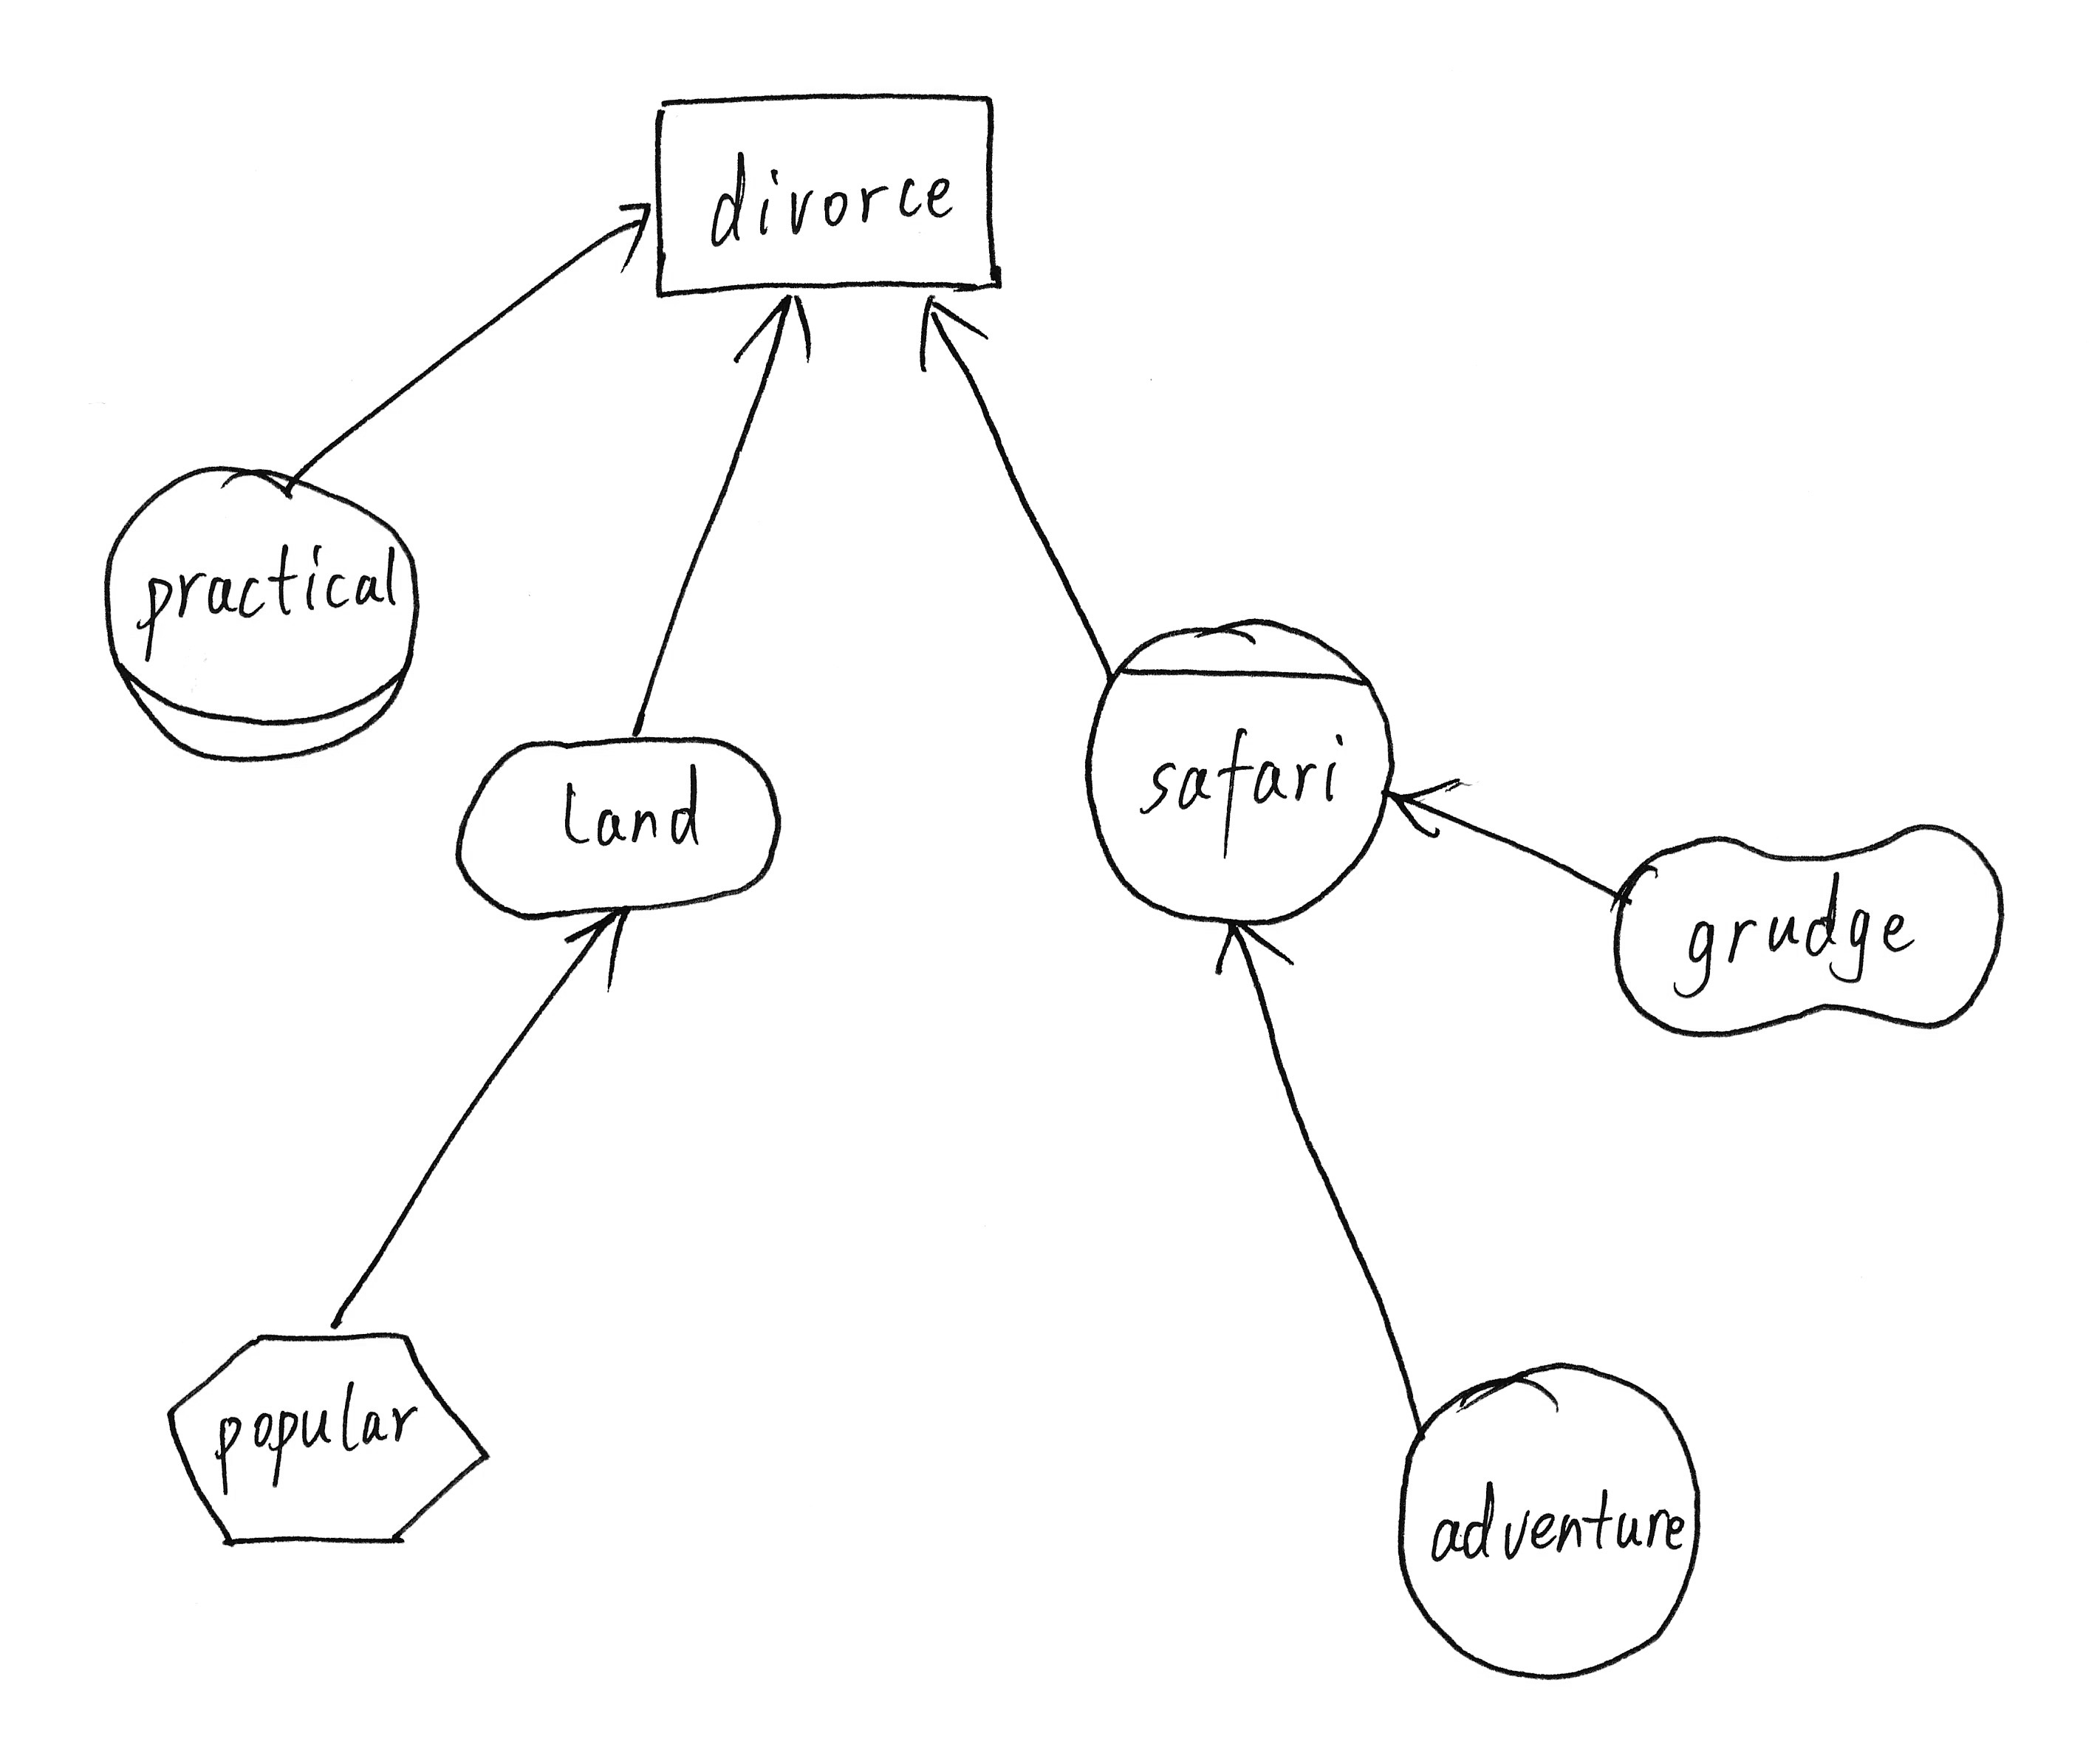actor: (1368, 1336, 1735, 1693)
agent: (1069, 601, 1406, 947)
arrow: (727, 281, 833, 383), (903, 285, 1001, 393), (1195, 908, 1303, 994), (1377, 760, 1471, 858), (559, 893, 641, 1005), (610, 176, 664, 281)
goal: (442, 716, 795, 933)
quality: (1590, 802, 2025, 1053)
resource: (636, 75, 1015, 316)
role: (82, 447, 442, 779)
task: (154, 1314, 505, 1565)
